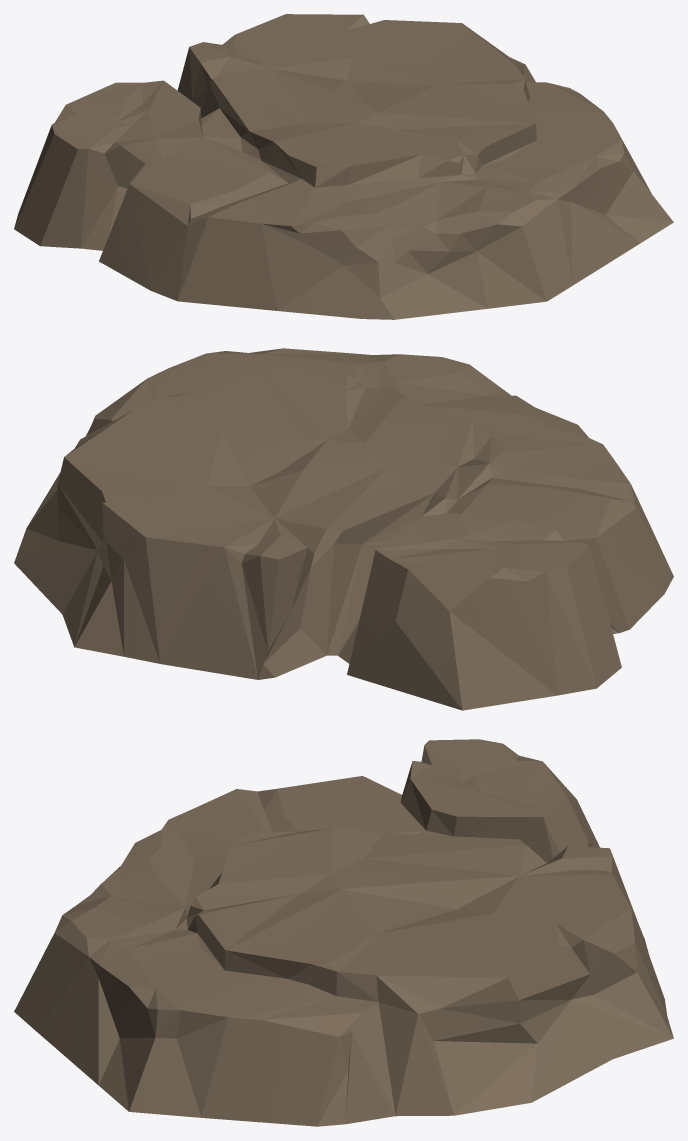
File: Rock_1.fbx
3 renders of one model, top to bottom at view 1: azimuth 30°, elevation 25°; view 2: azimuth 150°, elevation 25°; view 3: azimuth 270°, elevation 25°, orthographic. The views are drawn at different scales.
Visible parts, largest first — view 1: Rock_1; view 2: Rock_1; view 3: Rock_1.
Boxes of the visible parts, box(x1,y1,x2,y2) form: Rock_1: box(14, 14, 673, 319); Rock_1: box(14, 348, 673, 710); Rock_1: box(14, 739, 673, 1126).
Size of the model in its own units: 315 by 53.37 by 294.
